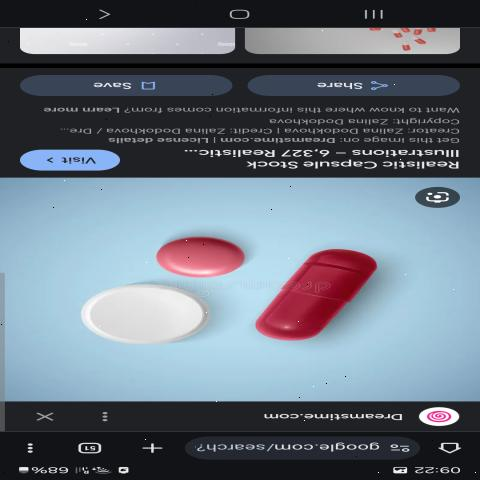Pill: (255, 234, 398, 366), (53, 278, 213, 356), (124, 231, 258, 283)
